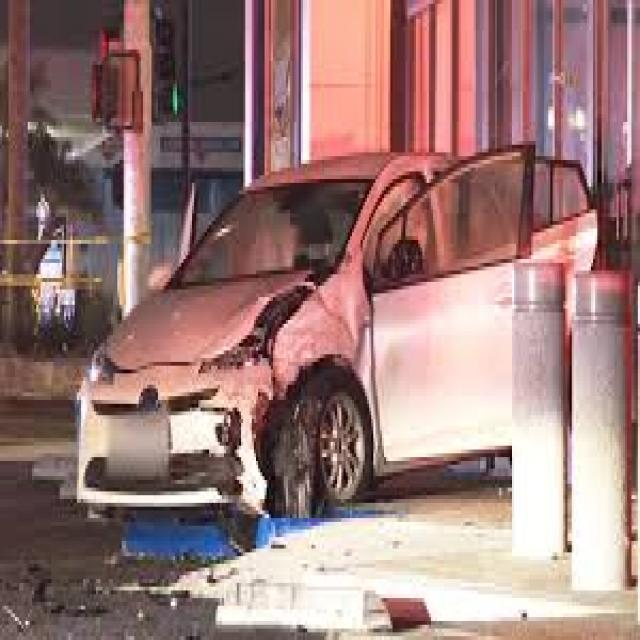accident: (71, 147, 503, 531)
